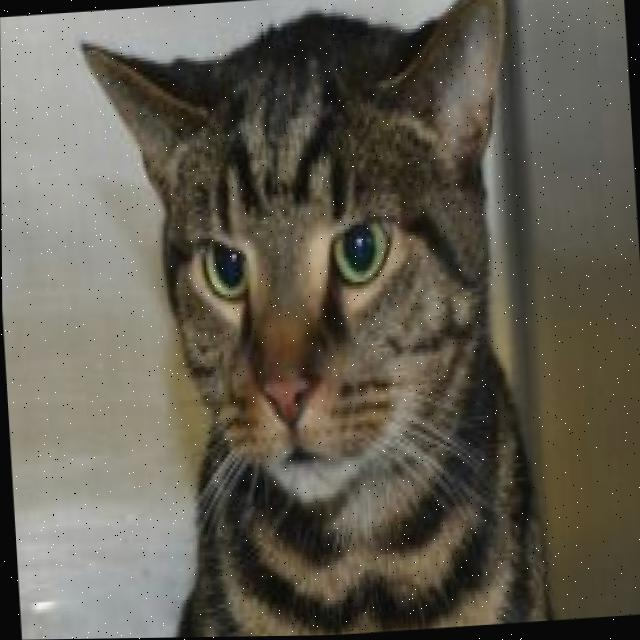Bengal: (66, 0, 570, 639)
